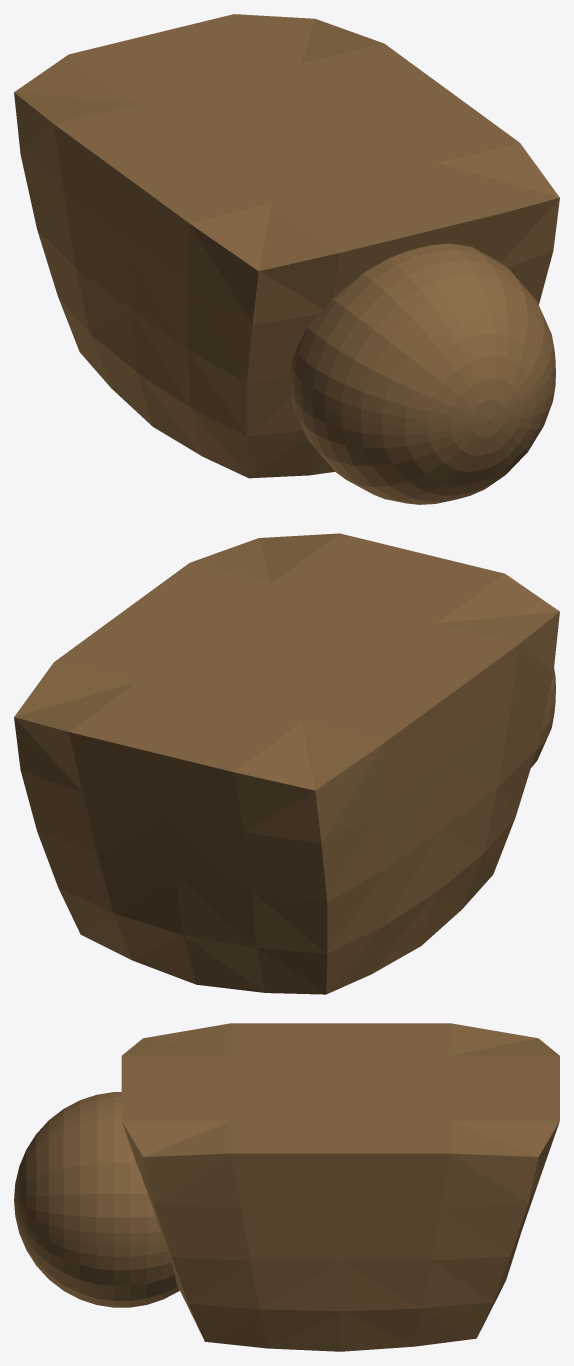
The model's file is RightFingerJoint22y_joint_visu.dae.
3 views of the same model, one above another, from view 1: azimuth 30°, elevation 25°; view 2: azimuth 150°, elevation 25°; view 3: azimuth 270°, elevation 25° (orthographic). The views are drawn at different scales.
Visible parts, largest first — view 1: node; view 2: node; view 3: node.
Boxes of the visible parts, x1,y1,x2,y2 form: node: (14,14,559,504); node: (14,533,559,994); node: (14,1023,559,1351).
Size of the model in its own units: 0.0109 by 0.00867 by 0.0192.
